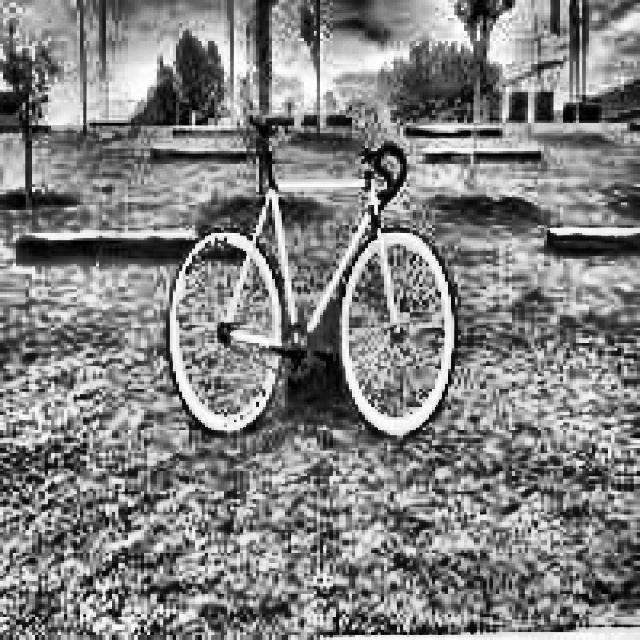motorcycle: (167, 92, 469, 441)
